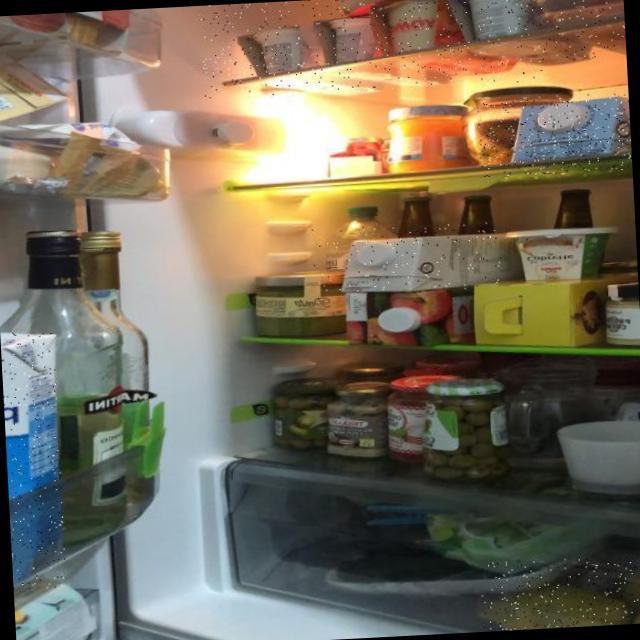Carne cerdo: (537, 0, 626, 62), (531, 0, 624, 8)
Limón: (480, 554, 640, 631)
Yogur: (200, 0, 548, 100)
milk: (1, 331, 67, 590), (311, 220, 504, 298), (477, 92, 633, 178)
